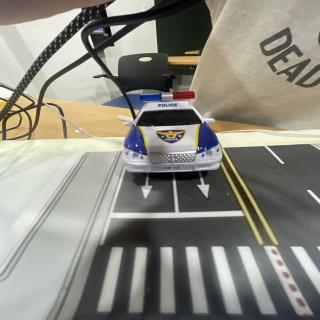Police_car: (122, 92, 222, 173)
